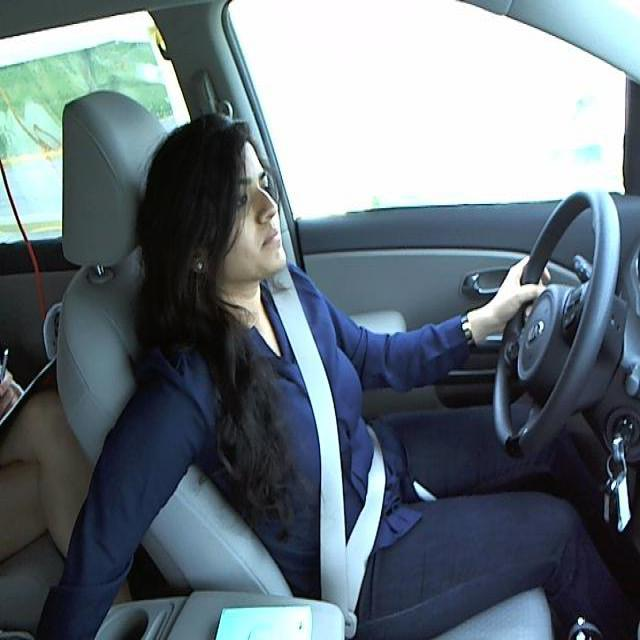seatbelt: (264, 288, 392, 603)
